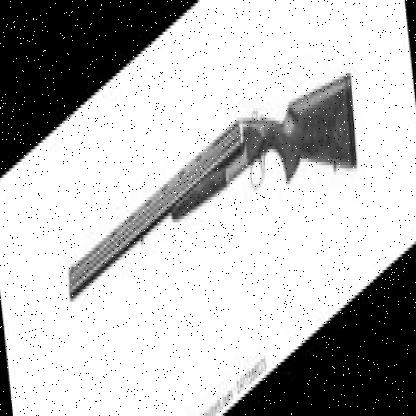rifle: (62, 9, 360, 416)
